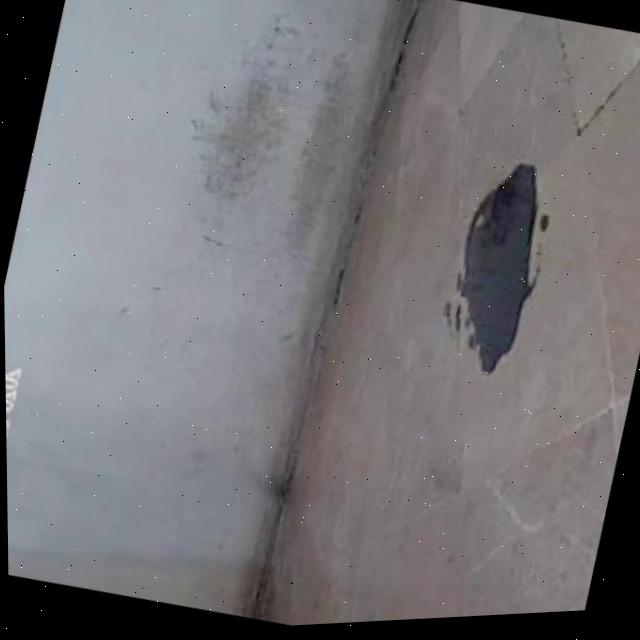spillage: (459, 162, 546, 385)
